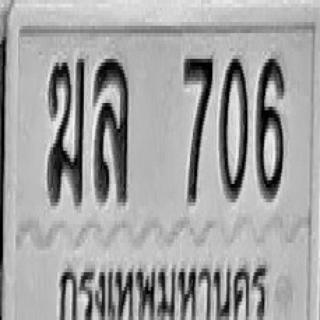A06: (47, 57, 85, 204)
A36: (94, 55, 128, 202)
N00: (219, 53, 248, 201)
N06: (256, 55, 284, 199)
N07: (183, 55, 212, 202)
P04: (56, 252, 275, 320)
